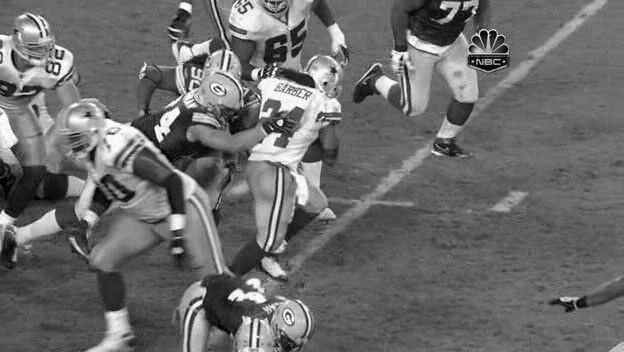person: (309, 53, 343, 96), (308, 53, 342, 96), (310, 53, 344, 96), (309, 52, 343, 95), (309, 54, 343, 97)
target_negative: (488, 115, 581, 280), (104, 156, 222, 267), (569, 80, 599, 352), (455, 254, 547, 324), (197, 325, 516, 335), (162, 345, 168, 348)
